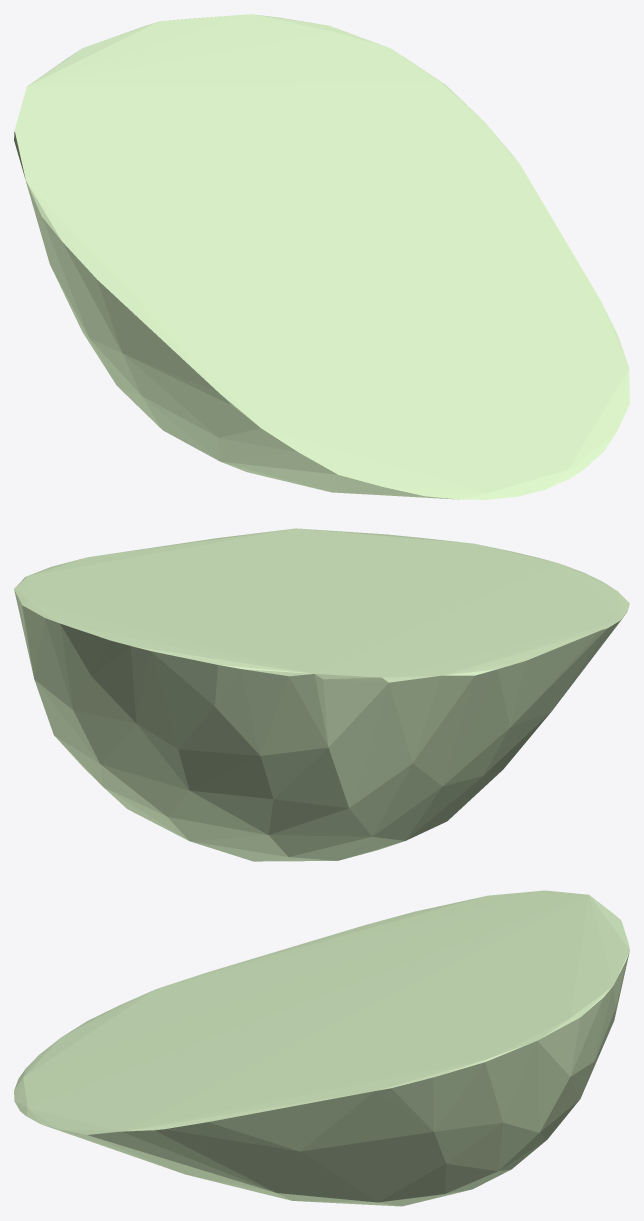
File: kuka_link5_resp_coll_1.dae
3 renders of one model, top to bottom at view 1: azimuth 30°, elevation 25°; view 2: azimuth 150°, elevation 25°; view 3: azimuth 270°, elevation 25°, orthographic. The views are drawn at different scales.
Visible parts, largest first — view 1: Node_0000015C5C917280; view 2: Node_0000015C5C917280; view 3: Node_0000015C5C917280.
Boxes of the visible parts, x1,y1,x2,y2 form: Node_0000015C5C917280: (14, 14, 629, 499); Node_0000015C5C917280: (14, 528, 629, 861); Node_0000015C5C917280: (14, 890, 629, 1206).
Bounding box in the file's own units: 0.1227 × 0.0809 × 0.1877.
